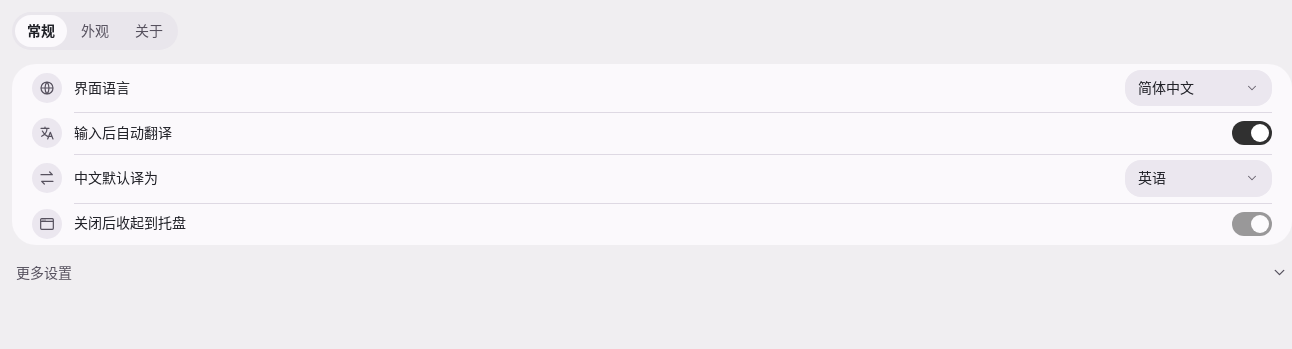
automatic preferences › shows save failures and retries the edited value without a success toast
What coordinates should you click on to do the following:
click the switch named "输入后自动翻译" in the row of "输入后自动翻译"
I would click on:
 (1252, 133)
Its box is left=1232, top=121, right=1272, bottom=145.
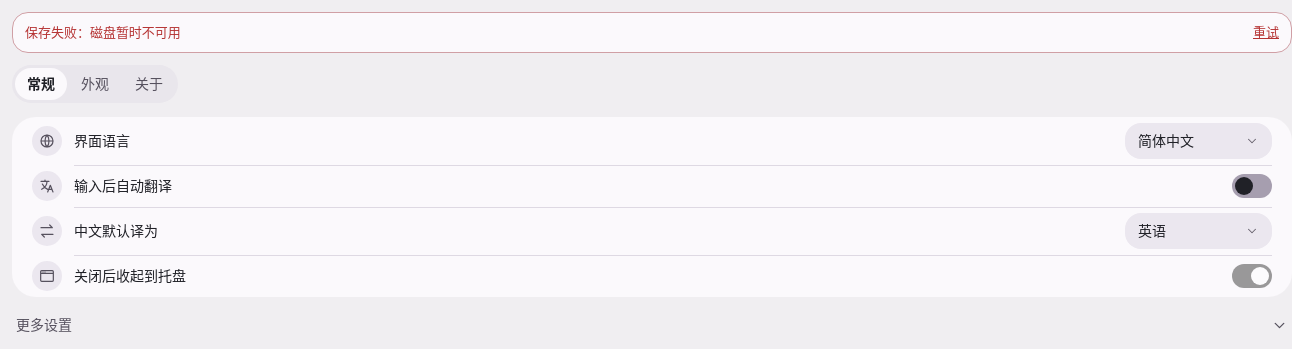
Now the message shows "磁盘暂时不可用", box left=25, top=23, right=181, bottom=41
What coordinates should you click on to do the following:
click the button "重试"
I would click on:
 (1266, 32)
Its box is left=1253, top=23, right=1279, bottom=42.
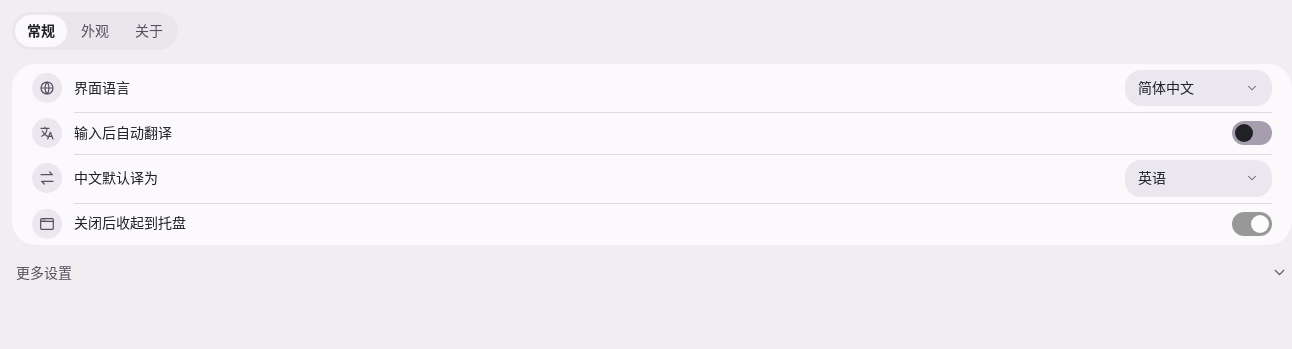
Now the message "保存失败：磁盘暂时不可用 重试" is gone
